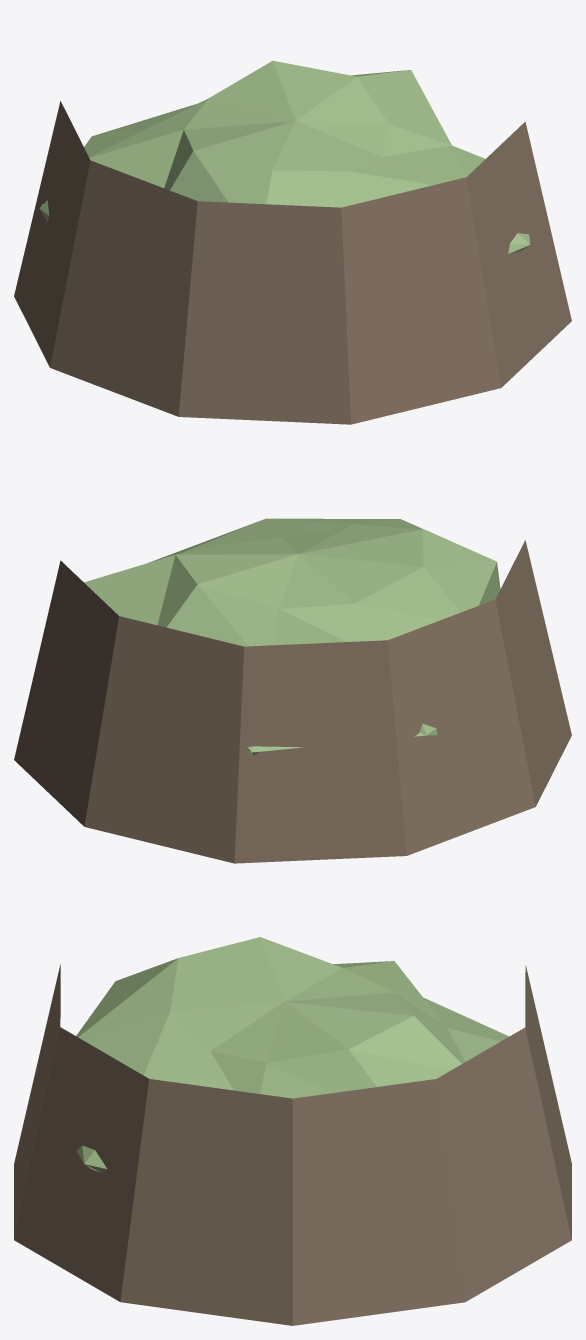
The model's file is nature_stump_mossy.glb.
3 renders of one model, top to bottom at view 1: azimuth 30°, elevation 25°; view 2: azimuth 150°, elevation 25°; view 3: azimuth 270°, elevation 25°, orthographic. The views are drawn at different scales.
Parts seen in each view (by area): view 1: world; view 2: world; view 3: world.
Part boxes in pixels (x1,y1,x2,y2): world: (14, 60, 571, 424); world: (14, 518, 571, 863); world: (14, 937, 571, 1325).
Size of the model in its own units: 2 by 0.7777 by 1.9.
